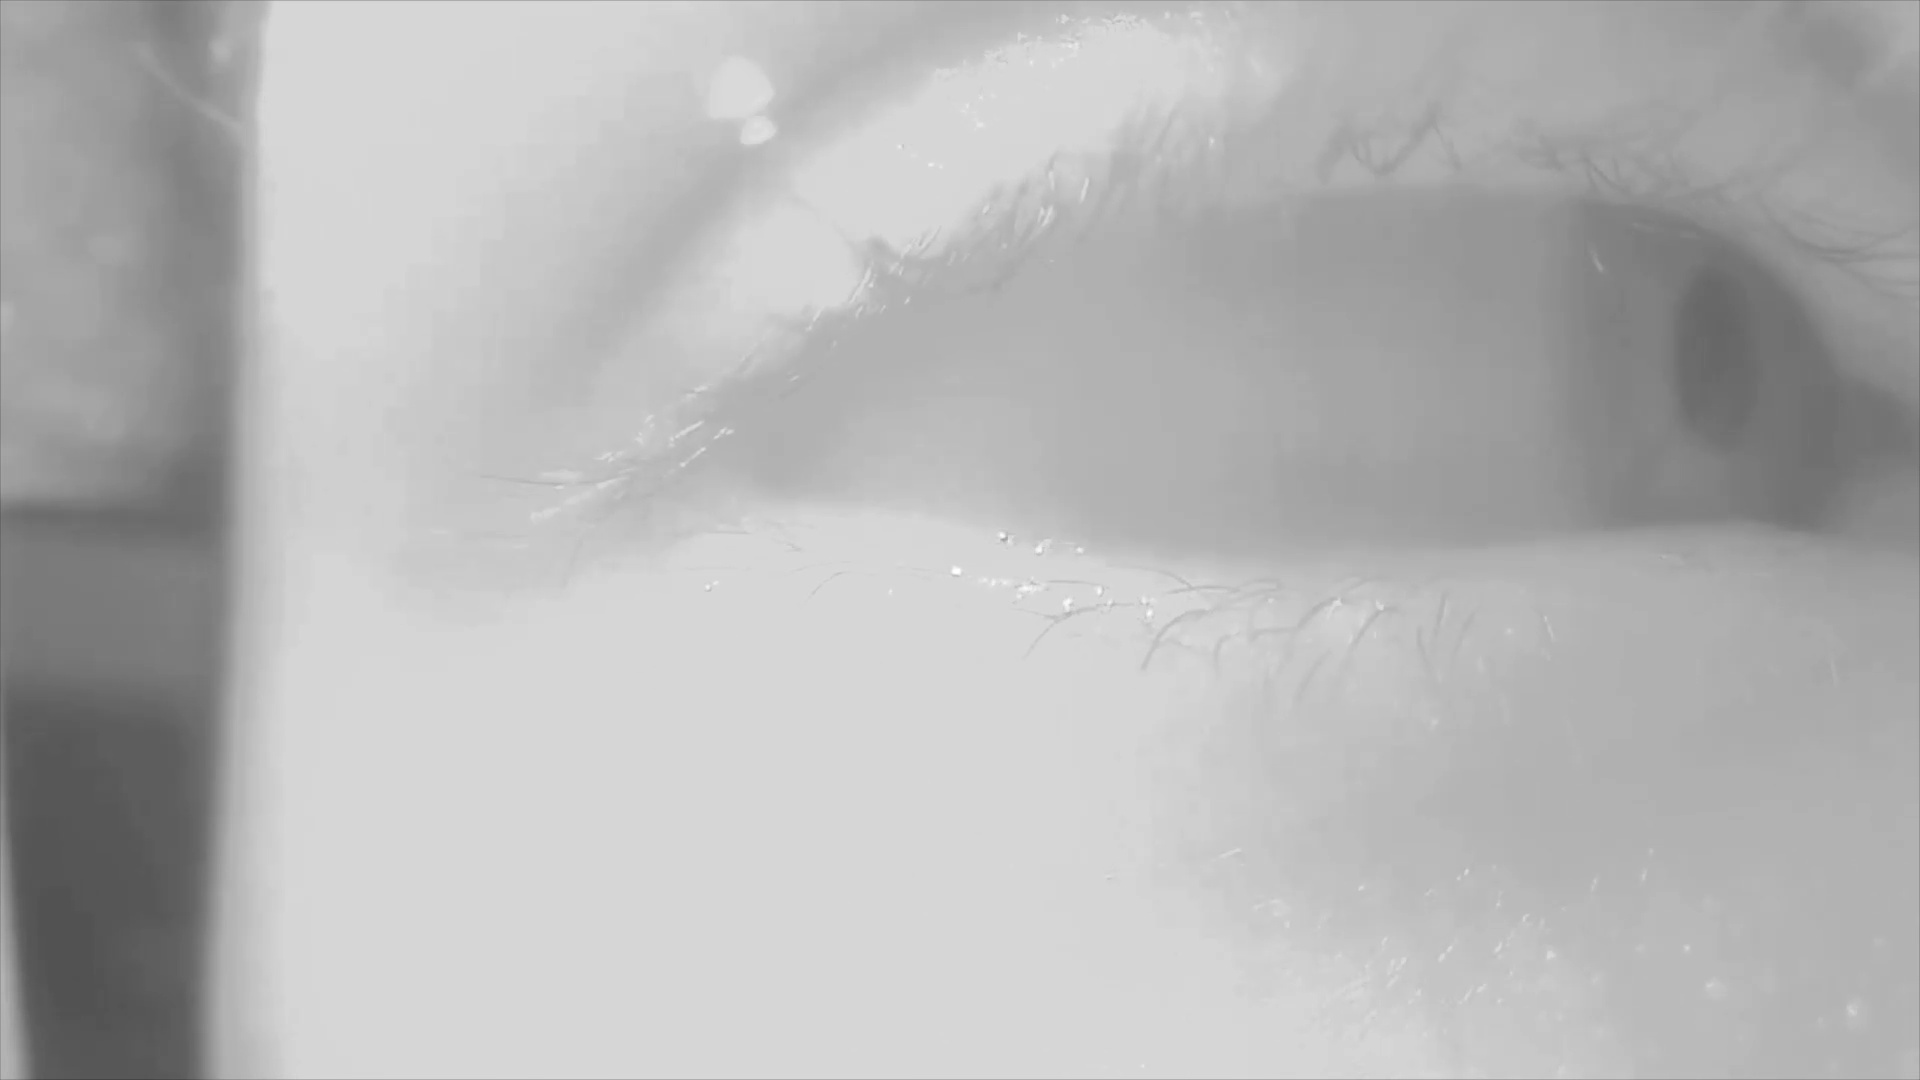pupil: (1677, 266, 1770, 450)
